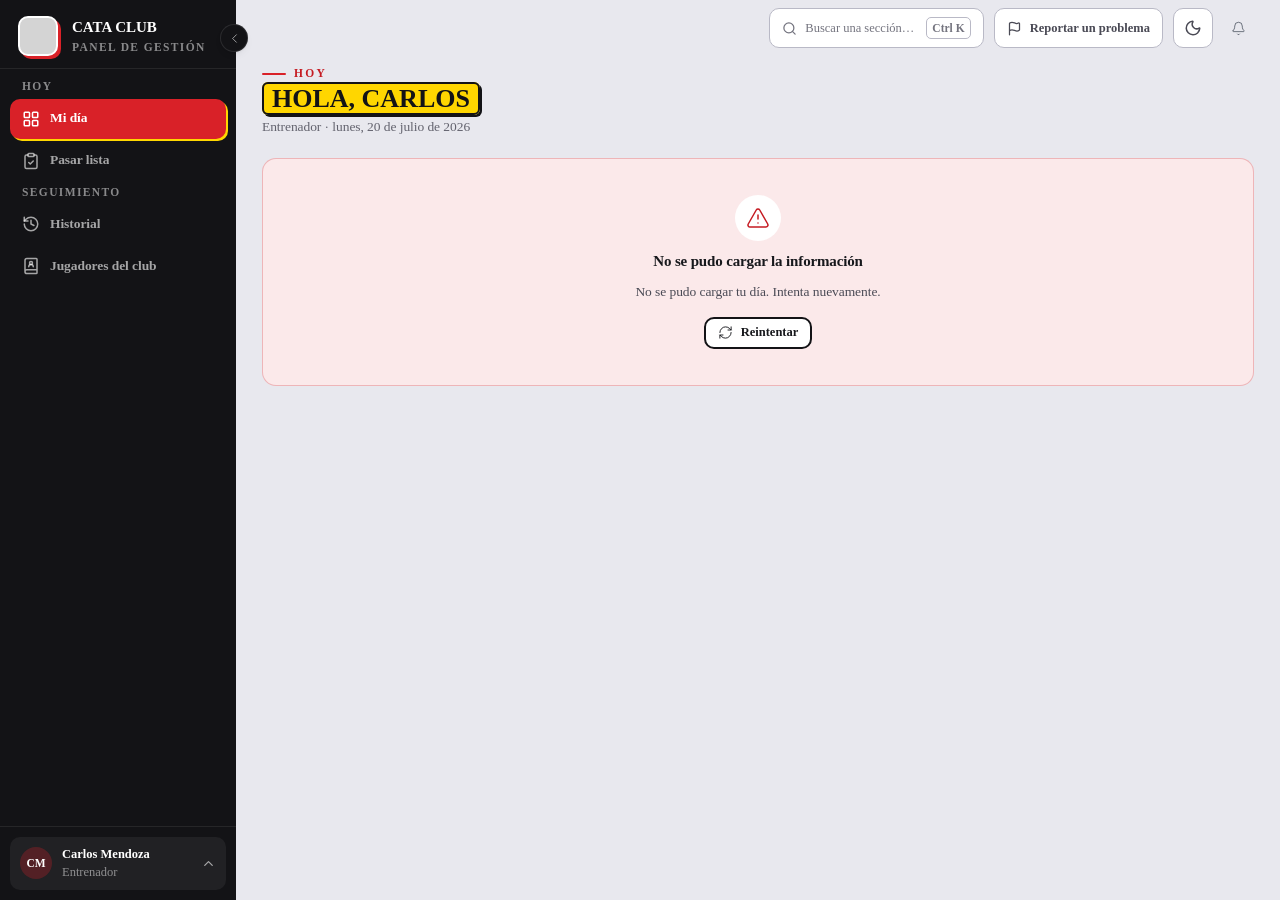
TrainerPage — Mi día › recovers from a failed load with a retry, and shows no session link while errored
expect the text "No se pudo cargar tu día. Intenta nuevamente." is shown: met, box 635,282 -> 881,303
Click the button "Reintentar" at (758, 333), box 704,317 -> 812,349
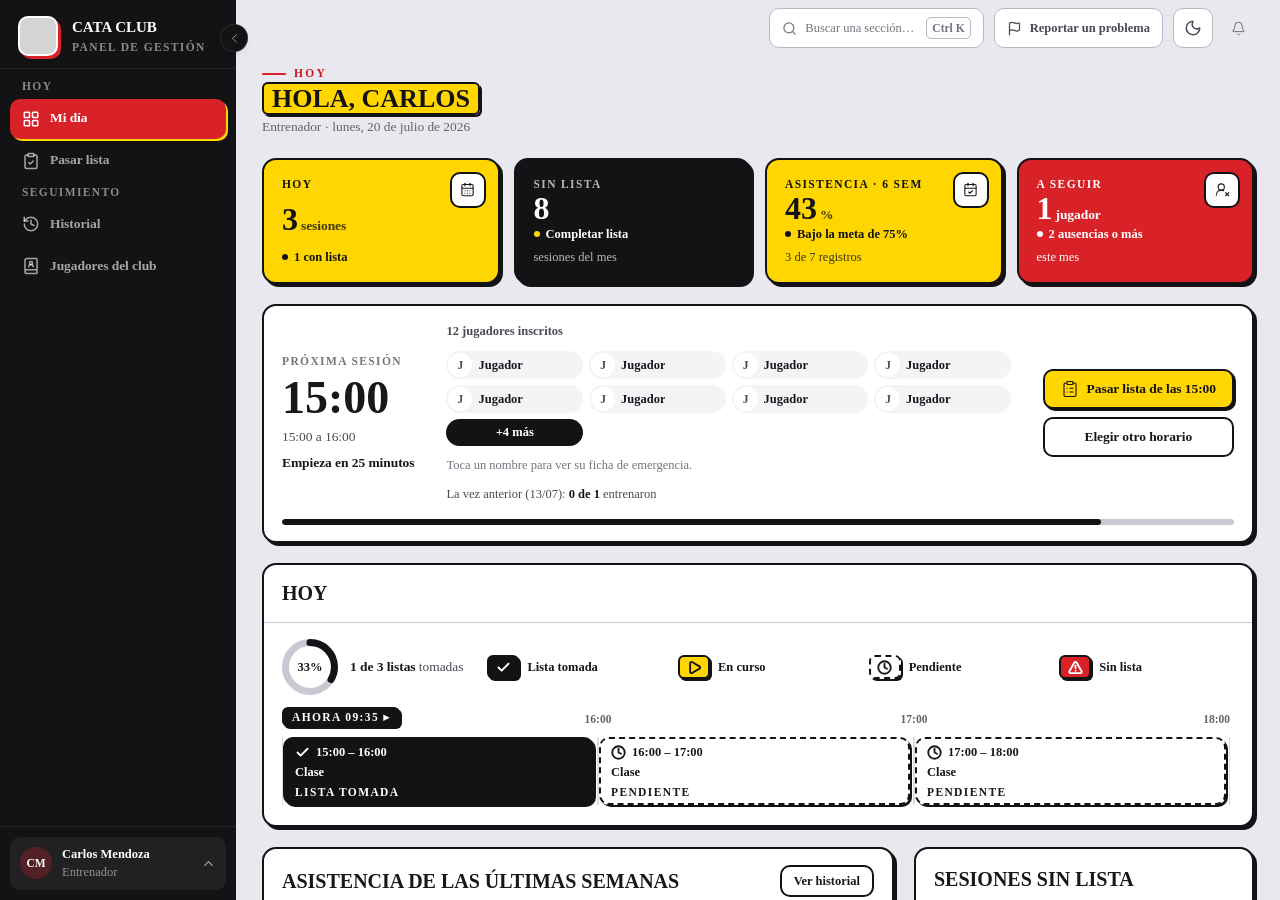
expect the element with test id "session-hero" is shown: met, box 262,304 -> 1254,544
